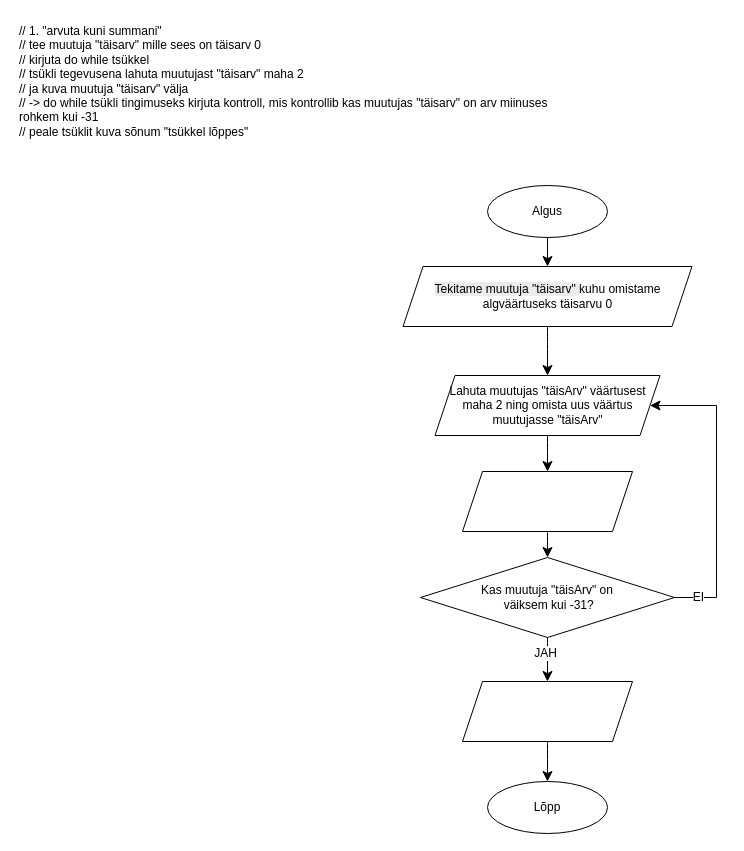
Image size: 744x851. Some labels were removed from this diagram. The centre of each missing label's shape, as x and y in pixels:
Kuva kasutajale muutujas "täisArv" olev väärtus välja: the point at 547,501
Kuva kasutajale tekst "tsükkel lõppes": the point at 547,711
